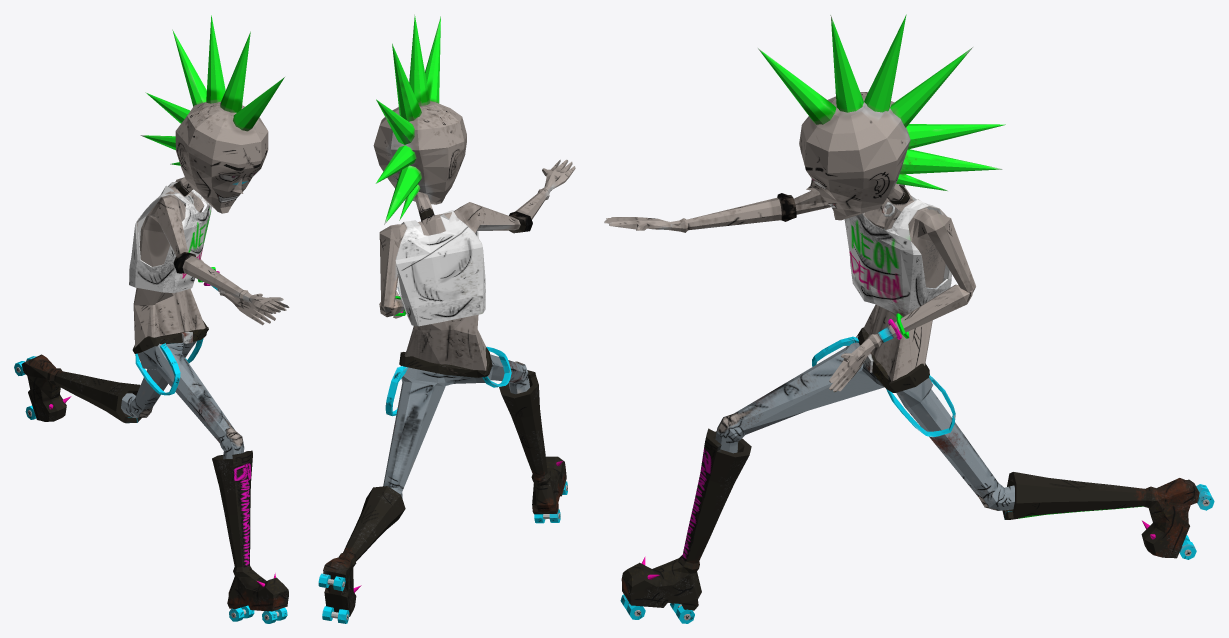
The model's file is punkAnimation_000012.obj.
3 renders of one model, left to right at view 1: azimuth 30°, elevation 25°; view 2: azimuth 150°, elevation 25°; view 3: azimuth 270°, elevation 25°, orthographic. The views are drawn at different scales.
Parts seen in each view (by area): view 1: Cube.004_Cube.003; view 2: Cube.004_Cube.003; view 3: Cube.004_Cube.003.
Boxes of the visible parts, x1,y1,x2,y2 form: Cube.004_Cube.003: [14, 15, 289, 623]; Cube.004_Cube.003: [318, 14, 575, 623]; Cube.004_Cube.003: [604, 14, 1214, 623].
Bounding box in the file's own units: 1.59 × 6.6 × 5.65.
